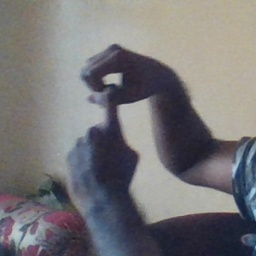Q: (65, 43, 160, 195)
